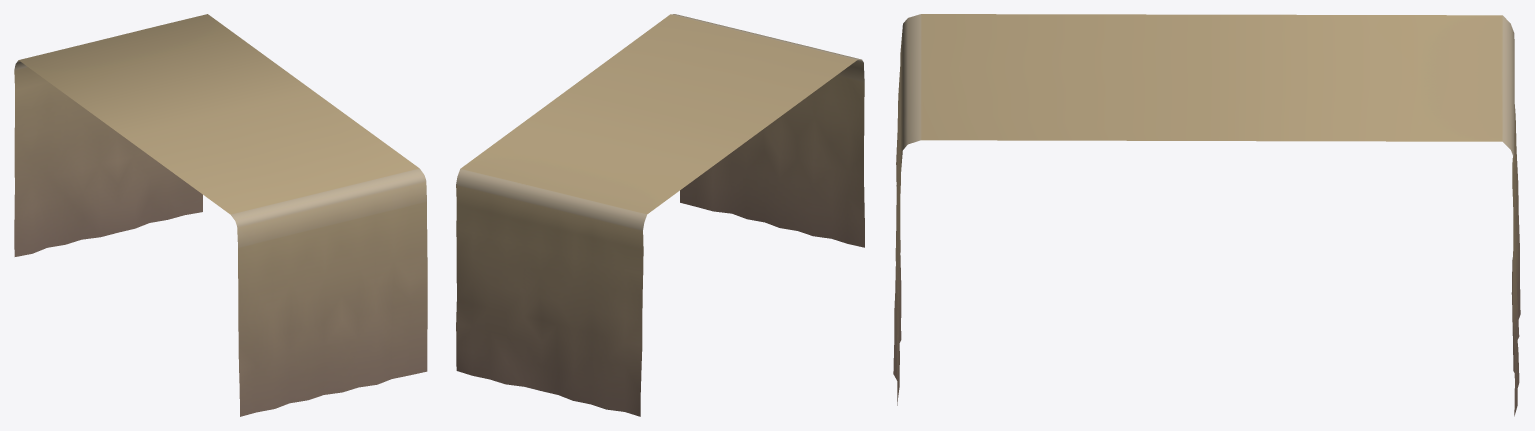
Rendered from Towel.fbx.
The picture shows the model from 3 angles, left to right: view 1: azimuth 30°, elevation 25°; view 2: azimuth 150°, elevation 25°; view 3: azimuth 270°, elevation 25°; orthographic projection. The views are drawn at different scales.
Visible parts, largest first — view 1: Towel.001; view 2: Towel.001; view 3: Towel.001.
Part boxes in pixels (<box>): Towel.001: <box>14,14,427,416</box>; Towel.001: <box>456,14,864,416</box>; Towel.001: <box>893,14,1520,416</box>.
Size of the model in its own units: 142 by 68.05 by 69.43.
1 material, 1 textured.
